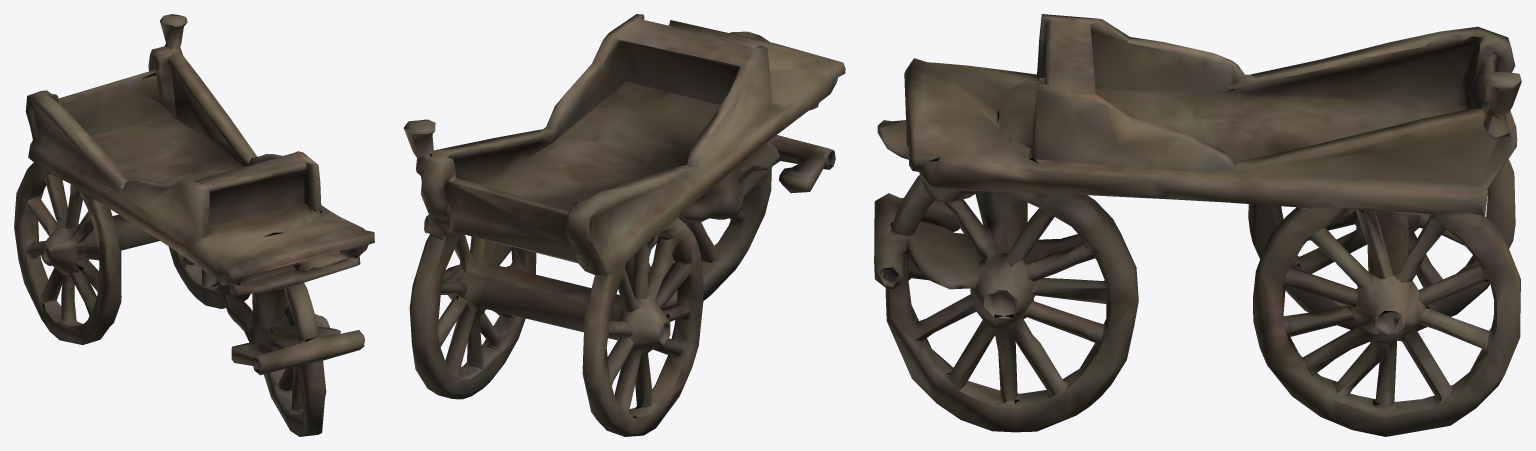
Rendered from ancient-wood-cart-v001.glb.
3 renders of one model, left to right at view 1: azimuth 30°, elevation 25°; view 2: azimuth 150°, elevation 25°; view 3: azimuth 270°, elevation 25°, orthographic. The views are drawn at different scales.
Parts seen in each view (by area): view 1: ancient-wood-cart; view 2: ancient-wood-cart; view 3: ancient-wood-cart.
Boxes of the visible parts, x1,y1,x2,y2 form: ancient-wood-cart: (14, 14, 374, 436); ancient-wood-cart: (403, 14, 845, 436); ancient-wood-cart: (874, 14, 1521, 436).
Size of the model in its own units: 0.7436 by 1.03 by 1.58.
Materials: 1 (1 with a texture image).
